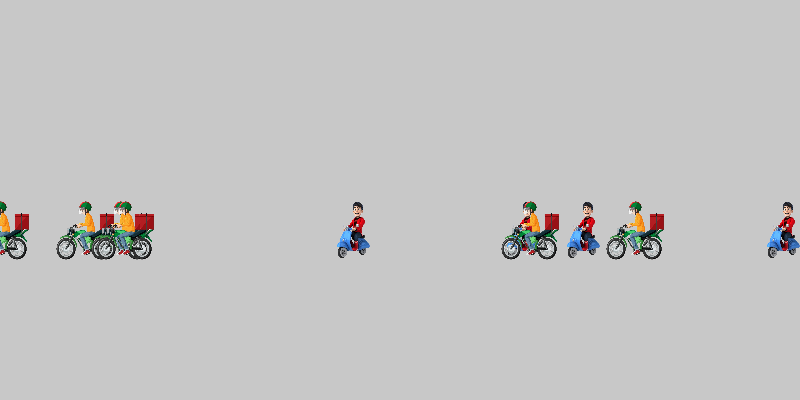helmet: (55, 200, 115, 260), (90, 200, 150, 260), (95, 200, 155, 260), (500, 200, 560, 260), (605, 200, 665, 260), (0, 200, 30, 260)
no_helmet: (325, 200, 385, 260), (495, 200, 555, 260), (555, 200, 615, 260), (755, 200, 800, 260)
